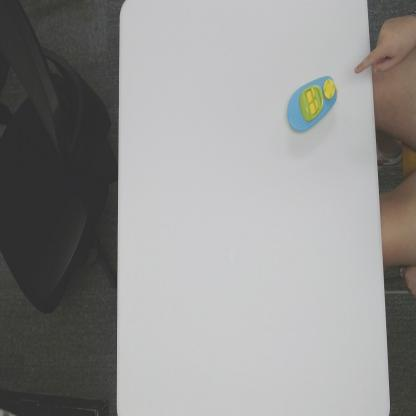Boat: (286, 74, 339, 134)
Hand: (353, 48, 371, 80)
